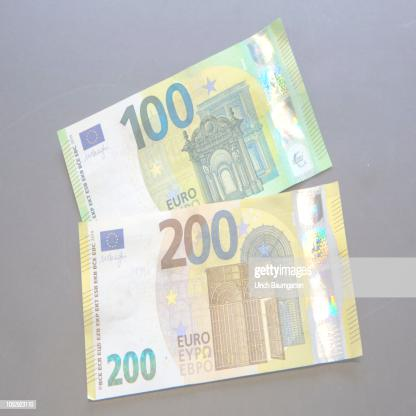euro_banknote: (74, 203, 355, 381), (62, 70, 331, 228)
